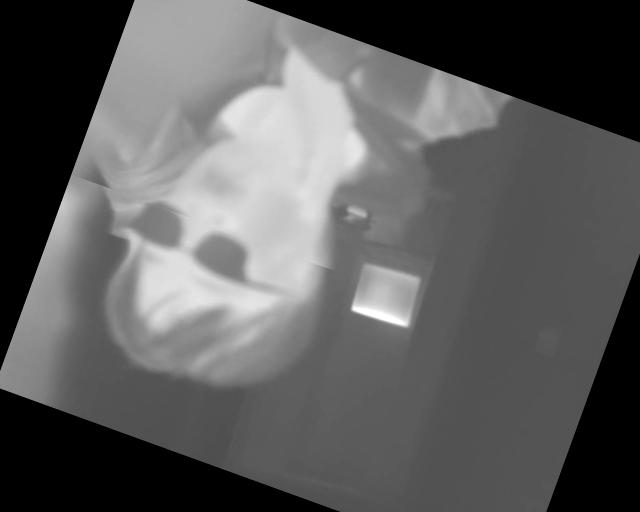face: (88, 116, 369, 420)
